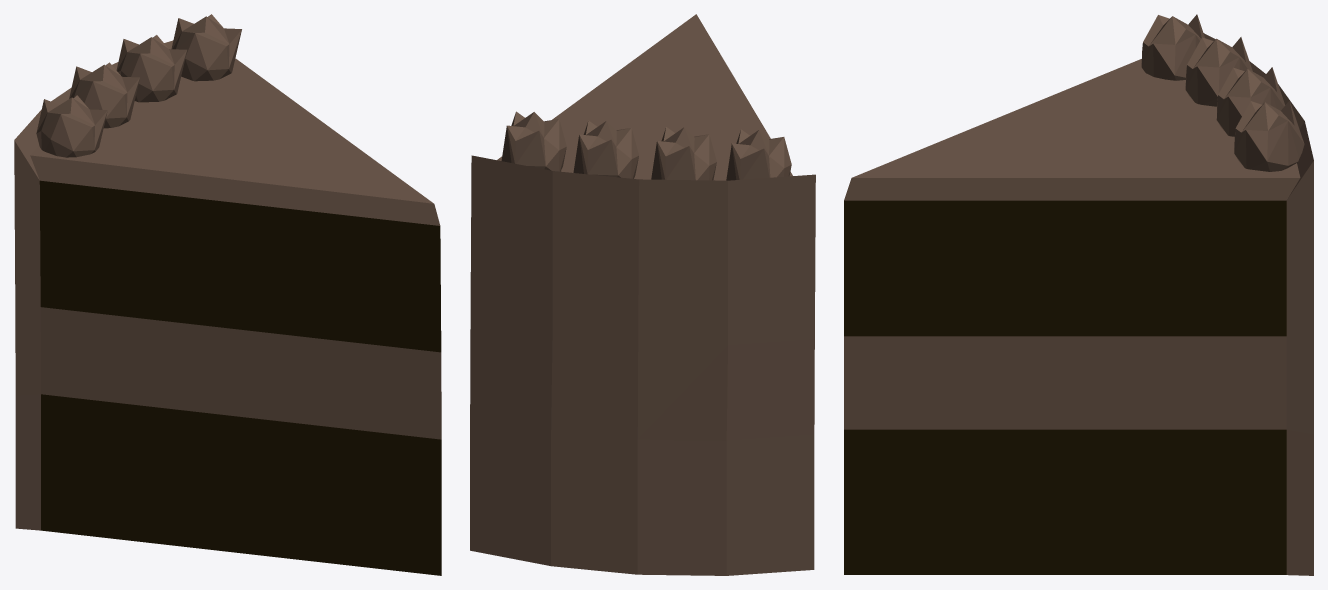
File: cakeslice.fbx
3 views of the same model, side by side, from view 1: azimuth 30°, elevation 25°; view 2: azimuth 150°, elevation 25°; view 3: azimuth 270°, elevation 25° (orthographic). The views are drawn at different scales.
Parts seen in each view (by area): view 1: Cake2, Decoration2; view 2: Cake2, Decoration2; view 3: Cake2, Decoration2.
Part boxes in pixels (x1,y1,x2,y2): Cake2: (14, 40, 441, 575); Decoration2: (36, 14, 241, 157); Cake2: (470, 14, 815, 575); Decoration2: (501, 111, 791, 180); Cake2: (844, 33, 1313, 575); Decoration2: (1141, 14, 1304, 171).
Bounding box in the file's own units: 76.43 × 113 × 106.
